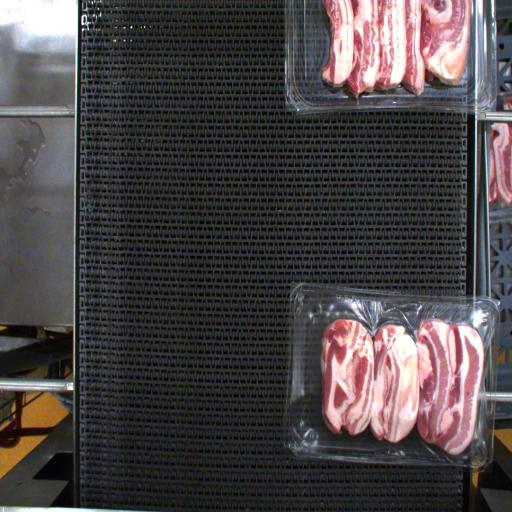unsealed: (297, 287, 494, 460)
